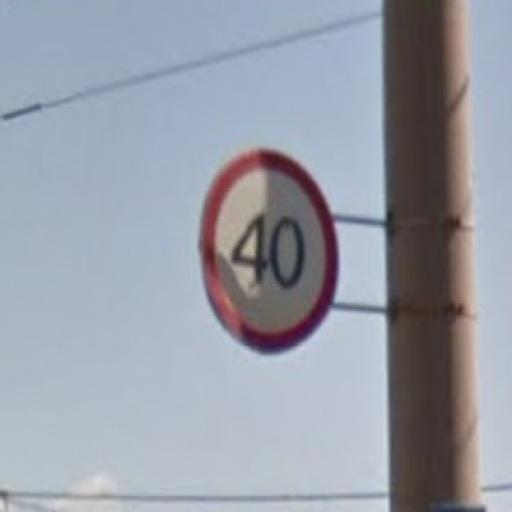traffic_sign: (200, 148, 341, 357)
